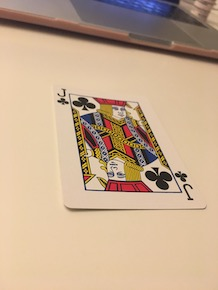JackOfClubs: (49, 76, 209, 216)
